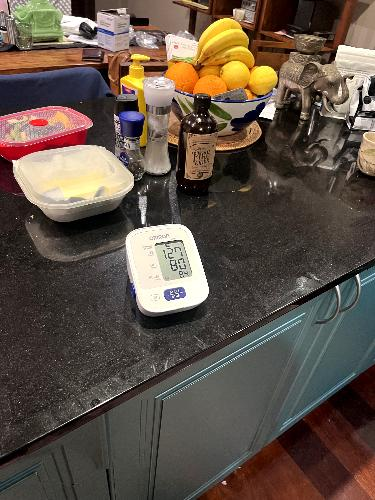bpm: (153, 235, 198, 285)
